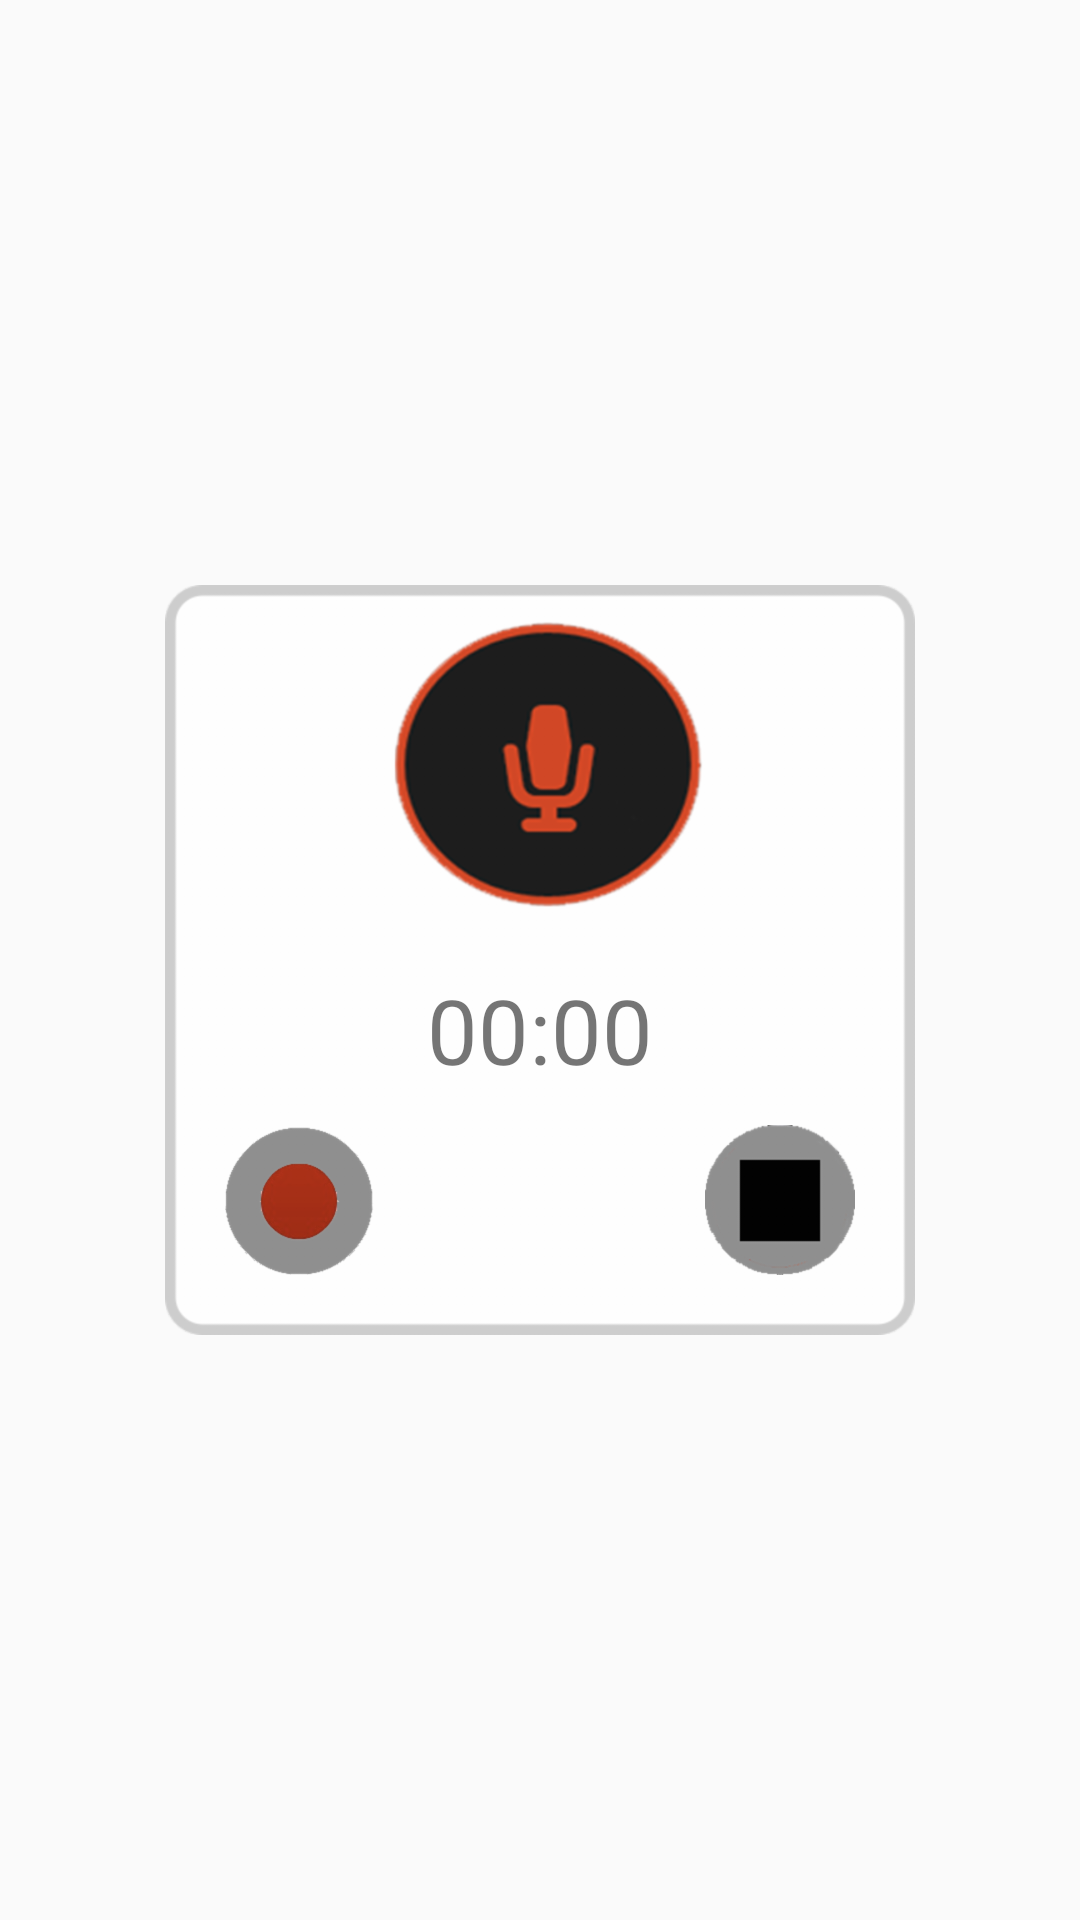

Point at icon controls on the screen. Image size 1080×1920, points as point (x, y).
record: point (299, 1201)
stop: point (780, 1200)
